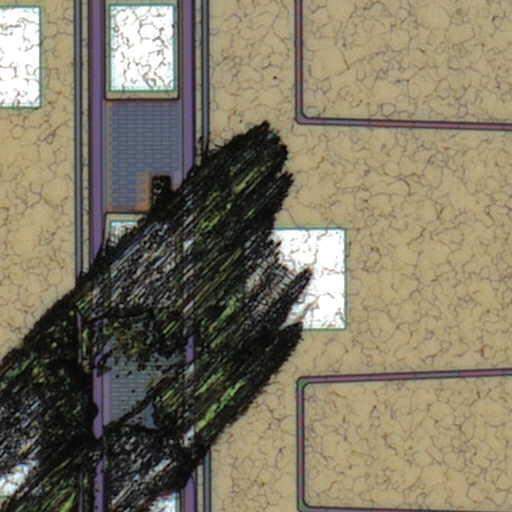SCRATCH: (1, 112, 320, 512)
